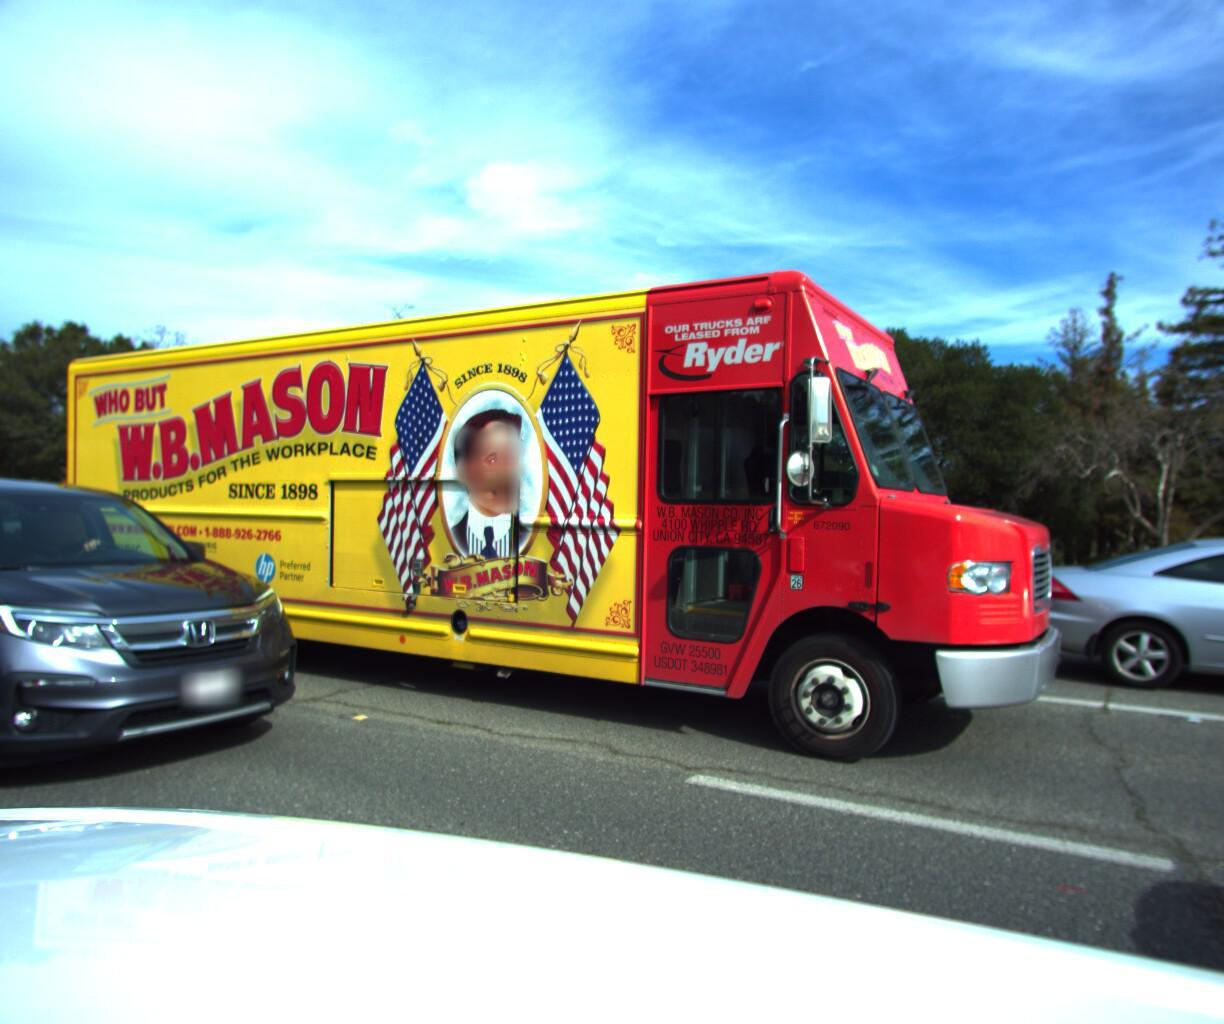car: (0, 464, 363, 852), (1024, 518, 1224, 746)
truck: (33, 205, 1087, 807)
